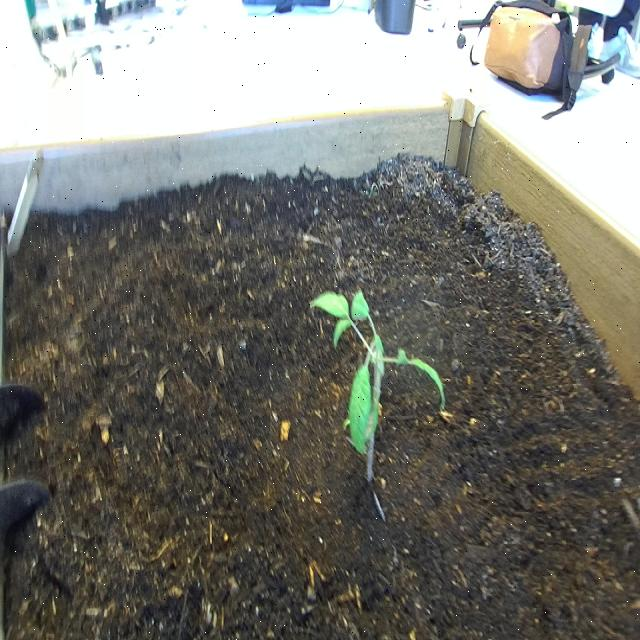Healthy: (308, 275, 452, 493)
